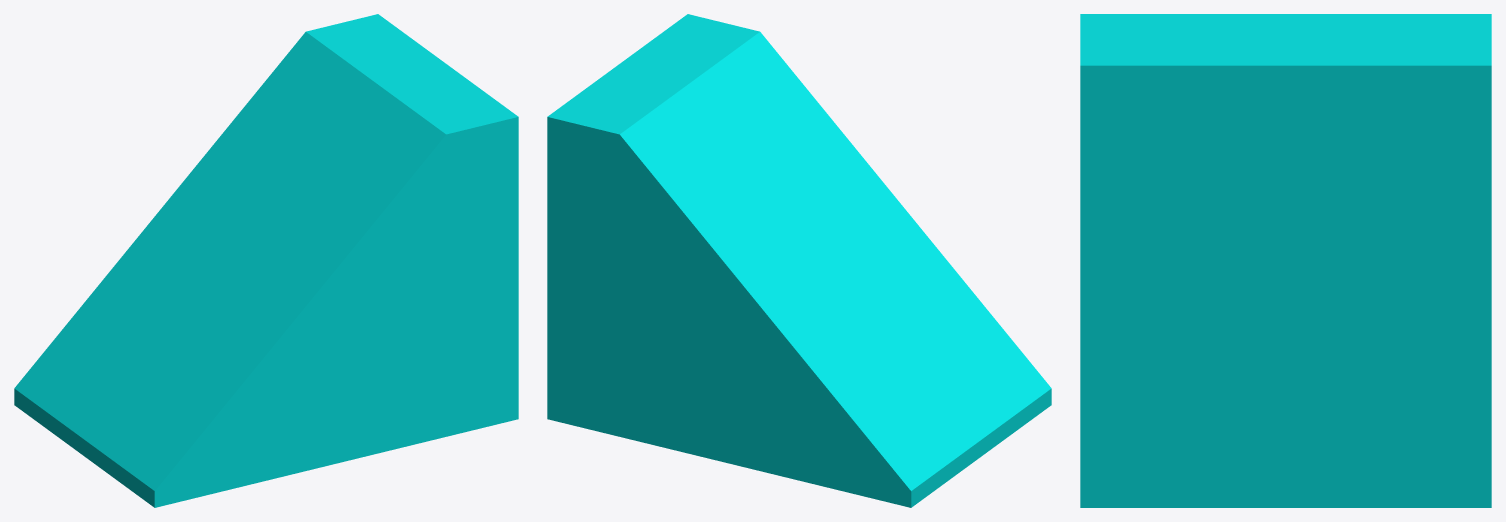
Rendered from SM_Bld_Stairs_Straight_01_Collison.fbx.
3 views of the same model, side by side, from view 1: azimuth 30°, elevation 25°; view 2: azimuth 150°, elevation 25°; view 3: azimuth 270°, elevation 25° (orthographic). The views are drawn at different scales.
Visible parts, largest first — view 1: SM_Bld_Stairs_Straight_01_Collison; view 2: SM_Bld_Stairs_Straight_01_Collison; view 3: SM_Bld_Stairs_Straight_01_Collison.
Part boxes in pixels (x1,y1,x2,y2): SM_Bld_Stairs_Straight_01_Collison: (14, 14, 518, 507); SM_Bld_Stairs_Straight_01_Collison: (547, 14, 1051, 507); SM_Bld_Stairs_Straight_01_Collison: (1080, 14, 1491, 507).
Bounding box in the file's own units: 374 × 297 × 250.
